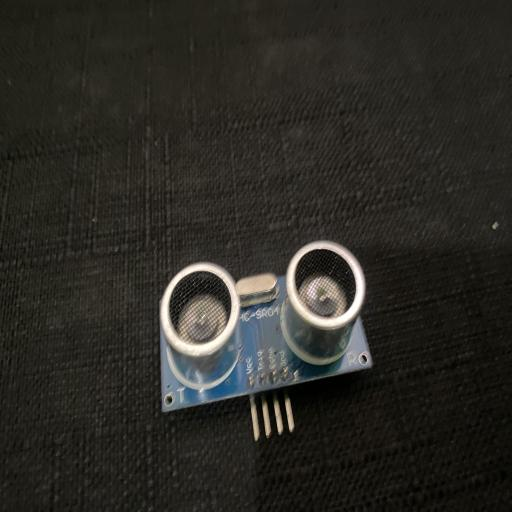Ultrasonic Sensor: (158, 238, 374, 443)
